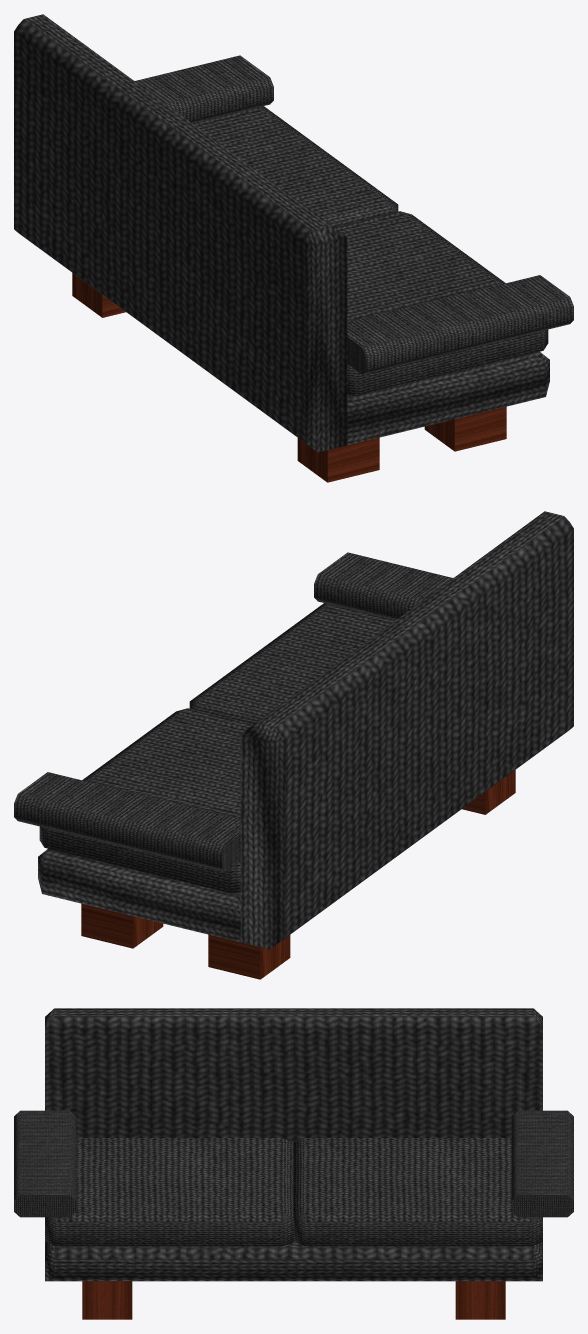
File: couch.glb
3 renders of one model, top to bottom at view 1: azimuth 30°, elevation 25°; view 2: azimuth 150°, elevation 25°; view 3: azimuth 270°, elevation 25°, orthographic. The views are drawn at different scales.
Visible parts, largest first — view 1: Sofa_Base2_lambert3_0.001, Sofa_Seat2_lambert3_0.001, Sofa_Arm2_lambert3_0.001, Sofa_Seat1_lambert3_0.001, Sofa_Base1_lambert3_0.001, Sofa_Arm1_lambert3_0.001, Tabletop_Leg_Thick8_lambert3_0.001, Tabletop_Leg_Thick5_lambert3_0.001, Tabletop_Leg_Thick7_lambert3_0.001; view 2: Sofa_Base2_lambert3_0.001, Sofa_Seat1_lambert3_0.001, Sofa_Arm1_lambert3_0.001, Sofa_Seat2_lambert3_0.001, Sofa_Base1_lambert3_0.001, Sofa_Arm2_lambert3_0.001, Tabletop_Leg_Thick7_lambert3_0.001, Tabletop_Leg_Thick6_lambert3_0.001, Tabletop_Leg_Thick8_lambert3_0.001; view 3: Sofa_Base2_lambert3_0.001, Sofa_Seat1_lambert3_0.001, Sofa_Seat2_lambert3_0.001, Sofa_Base1_lambert3_0.001, Sofa_Arm1_lambert3_0.001, Sofa_Arm2_lambert3_0.001, Tabletop_Leg_Thick5_lambert3_0.001, Tabletop_Leg_Thick6_lambert3_0.001.
Part boxes in pixels (left/top/right/bottom): Sofa_Base2_lambert3_0.001: left=14, top=14, right=347, bottom=452; Sofa_Seat2_lambert3_0.001: left=334, top=211, right=548, bottom=396; Sofa_Arm2_lambert3_0.001: left=347, top=275, right=573, bottom=374; Sofa_Seat1_lambert3_0.001: left=192, top=106, right=398, bottom=226; Sofa_Base1_lambert3_0.001: left=347, top=351, right=549, bottom=445; Sofa_Arm1_lambert3_0.001: left=135, top=55, right=273, bottom=123; Tabletop_Leg_Thick8_lambert3_0.001: left=297, top=437, right=379, bottom=482; Tabletop_Leg_Thick5_lambert3_0.001: left=424, top=406, right=506, bottom=451; Tabletop_Leg_Thick7_lambert3_0.001: left=72, top=273, right=125, bottom=317; Sofa_Base2_lambert3_0.001: left=240, top=511, right=573, bottom=949; Sofa_Seat1_lambert3_0.001: left=39, top=708, right=253, bottom=893; Sofa_Arm1_lambert3_0.001: left=14, top=772, right=240, bottom=871; Sofa_Seat2_lambert3_0.001: left=189, top=603, right=395, bottom=723; Sofa_Base1_lambert3_0.001: left=38, top=848, right=240, bottom=942; Sofa_Arm2_lambert3_0.001: left=314, top=552, right=452, bottom=620; Tabletop_Leg_Thick7_lambert3_0.001: left=208, top=934, right=290, bottom=979; Tabletop_Leg_Thick6_lambert3_0.001: left=81, top=903, right=163, bottom=948; Tabletop_Leg_Thick8_lambert3_0.001: left=462, top=770, right=515, bottom=814; Sofa_Base2_lambert3_0.001: left=45, top=1008, right=542, bottom=1142; Sofa_Seat1_lambert3_0.001: left=294, top=1138, right=542, bottom=1246; Sofa_Seat2_lambert3_0.001: left=45, top=1138, right=293, bottom=1246; Sofa_Base1_lambert3_0.001: left=45, top=1241, right=542, bottom=1281; Sofa_Arm1_lambert3_0.001: left=511, top=1110, right=573, bottom=1217; Sofa_Arm2_lambert3_0.001: left=14, top=1110, right=76, bottom=1217; Tabletop_Leg_Thick5_lambert3_0.001: left=82, top=1281, right=132, bottom=1319; Tabletop_Leg_Thick6_lambert3_0.001: left=455, top=1281, right=505, bottom=1319.
Bounding box in the file's own units: 0.9519 × 1 × 2.25.
1 material, 1 textured.
